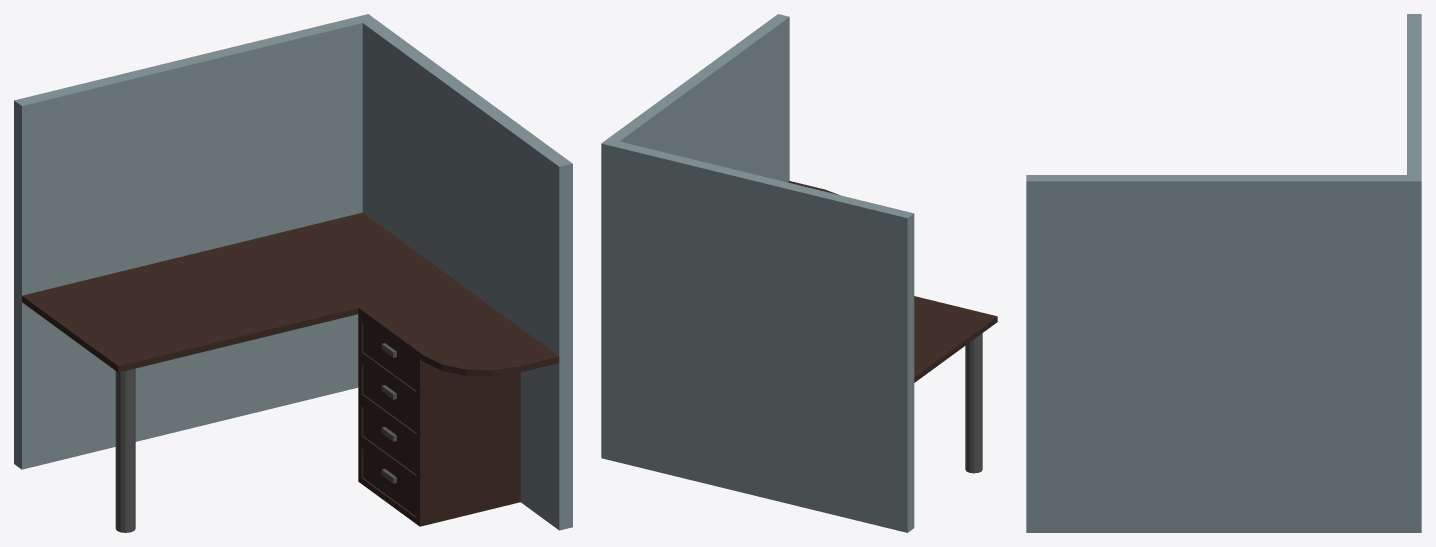
The model's file is table.glb.
The picture shows the model from 3 angles, left to right: view 1: azimuth 30°, elevation 25°; view 2: azimuth 150°, elevation 25°; view 3: azimuth 270°, elevation 25°; orthographic projection. The views are drawn at different scales.
Visible parts, largest first — view 1: Cube; view 2: Cube; view 3: Cube.
Part boxes in pixels (x1,y1,x2,y2): Cube: [14, 14, 572, 532]; Cube: [601, 14, 997, 532]; Cube: [1026, 14, 1421, 532].
Size of the model in its own units: 20.39 by 20 by 20.39.
Materials: 1 (1 with a texture image).
